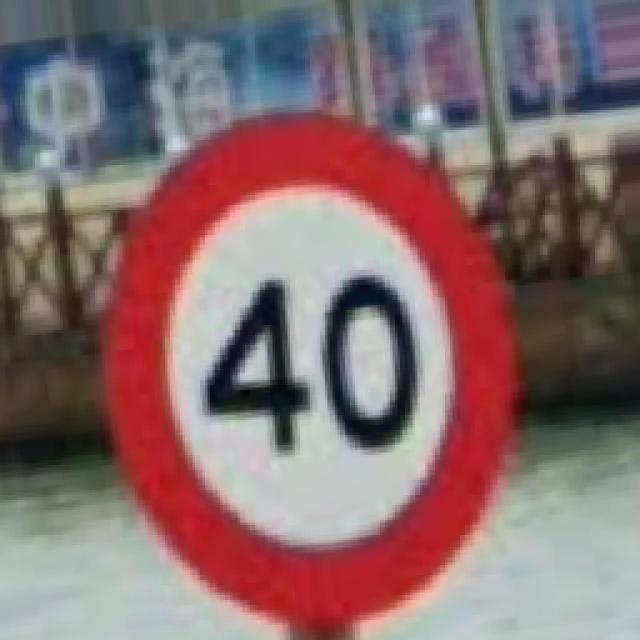Speed Limit -40-: (105, 115, 515, 627)
